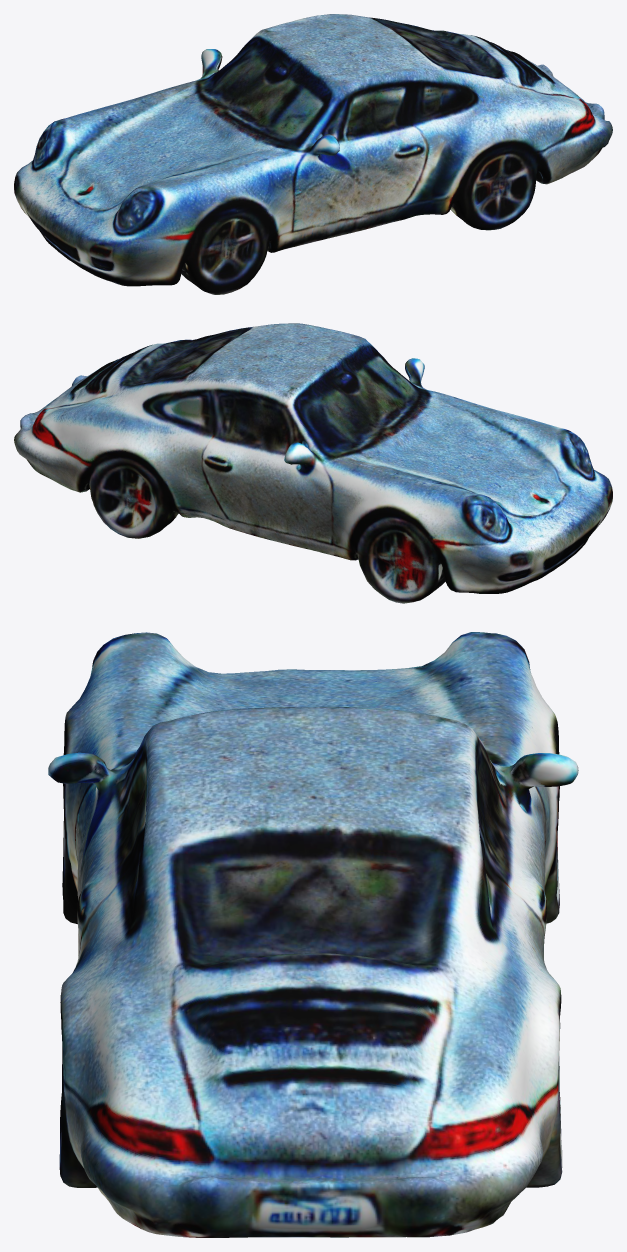
File: car.glb
3 views of the same model, one above another, from view 1: azimuth 30°, elevation 25°; view 2: azimuth 150°, elevation 25°; view 3: azimuth 270°, elevation 25° (orthographic). The views are drawn at different scales.
Visible parts, largest first — view 1: mesh; view 2: mesh; view 3: mesh.
Boxes of the visible parts, x1,y1,x2,y2 form: mesh: (14, 14, 612, 294); mesh: (14, 323, 612, 603); mesh: (48, 632, 578, 1237).
Size of the model in its own units: 0.9997 by 0.3003 by 0.4345.
Materials: 1 (1 with a texture image).
